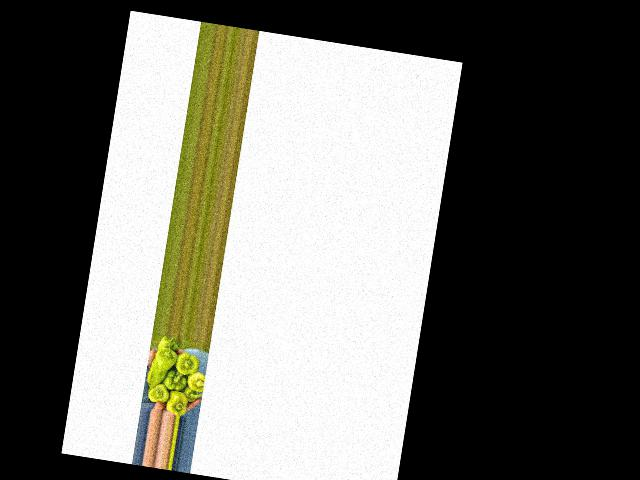bell_pepper: (166, 388, 191, 416)
